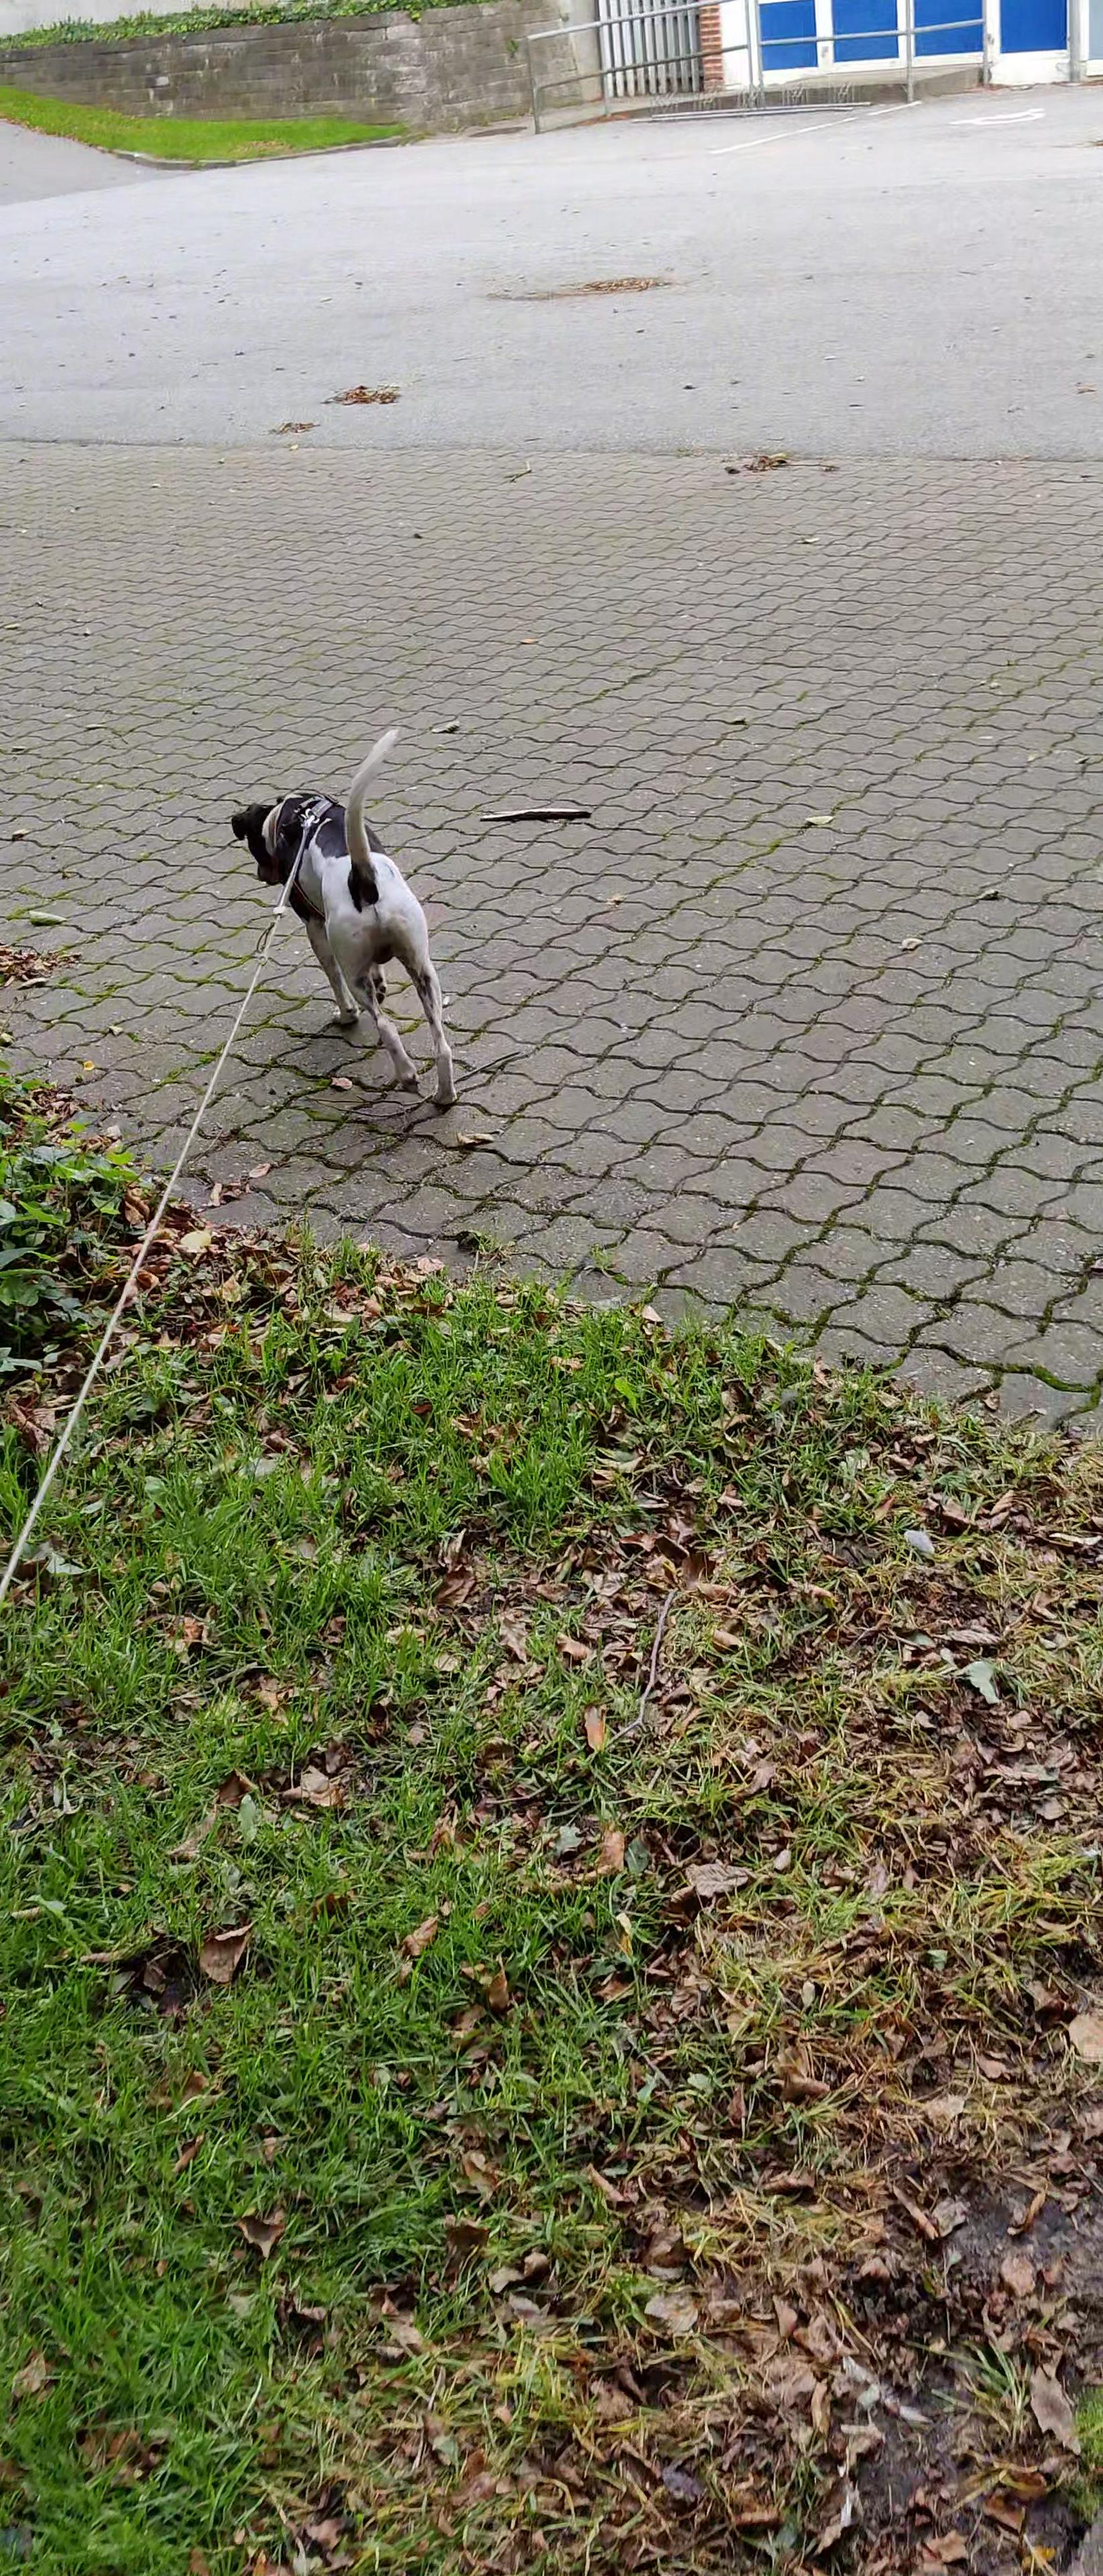Dog: (227, 721, 462, 1112)
